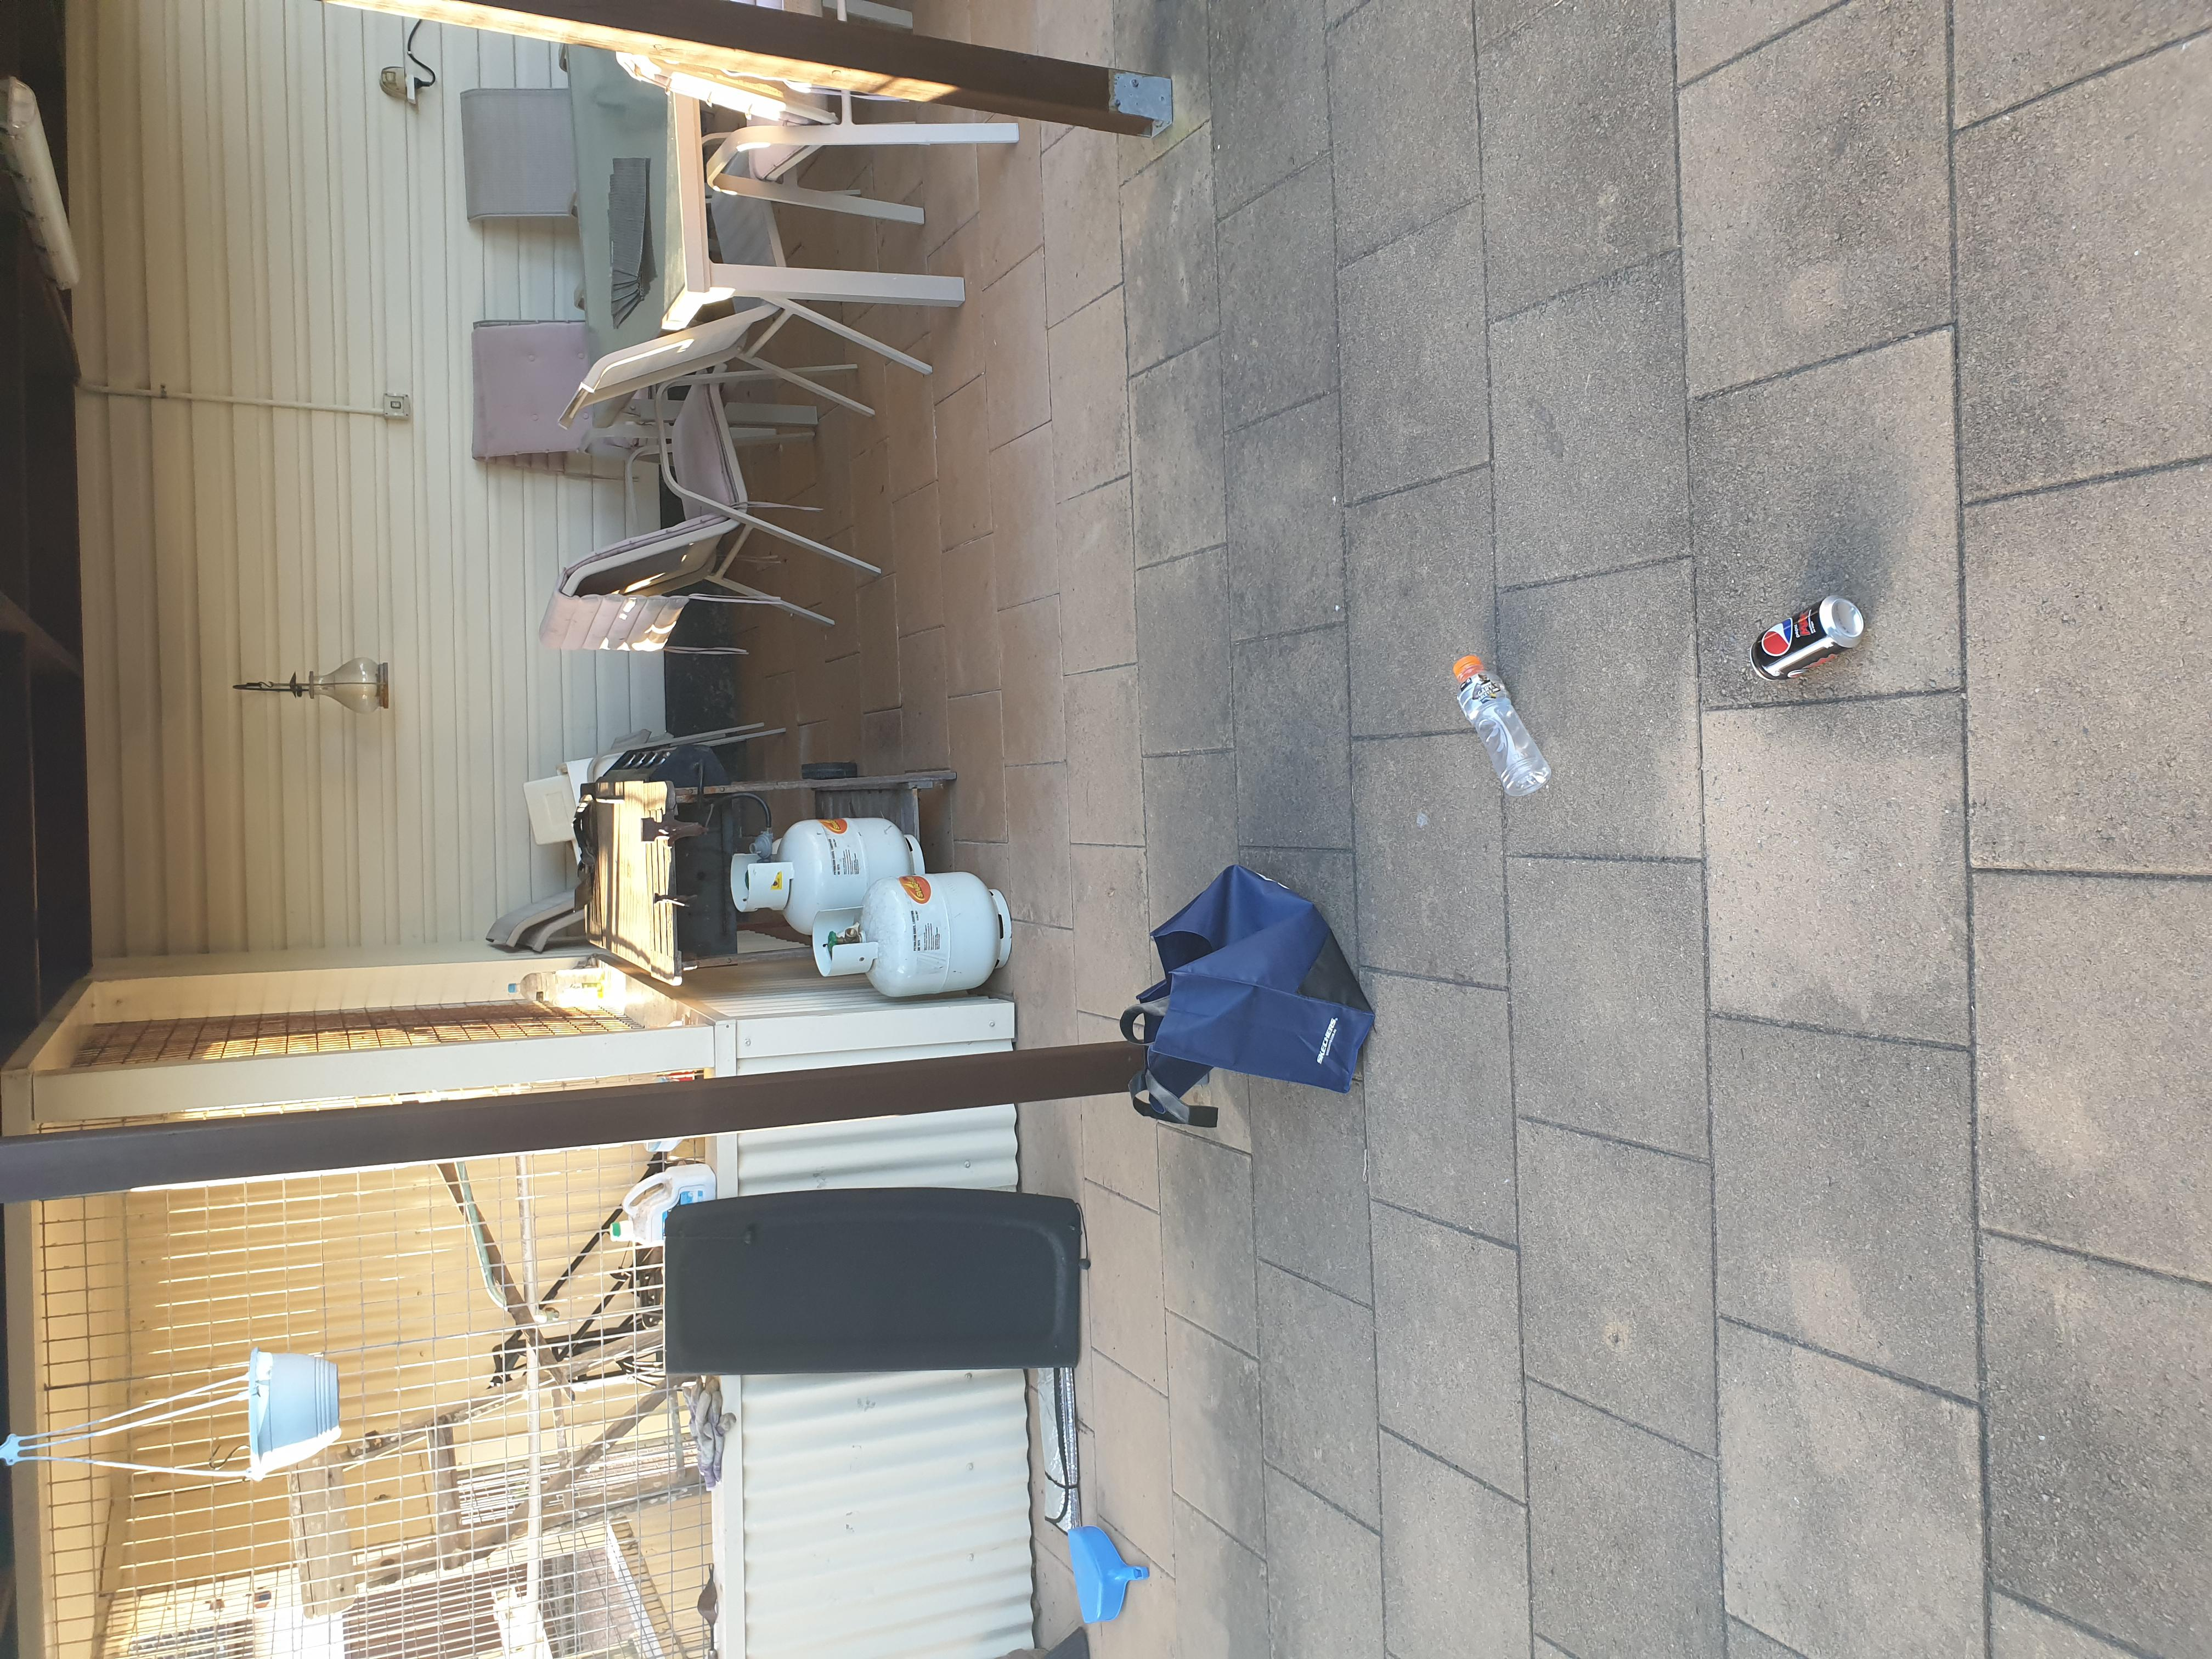Plastic Bottle: (1453, 655, 1552, 795), (1749, 594, 1865, 681)
